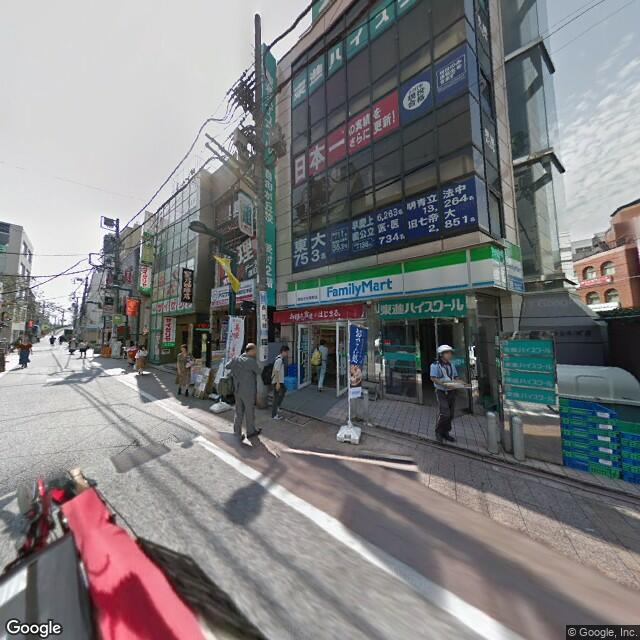family_mart: (284, 245, 505, 311), (323, 274, 399, 302)
